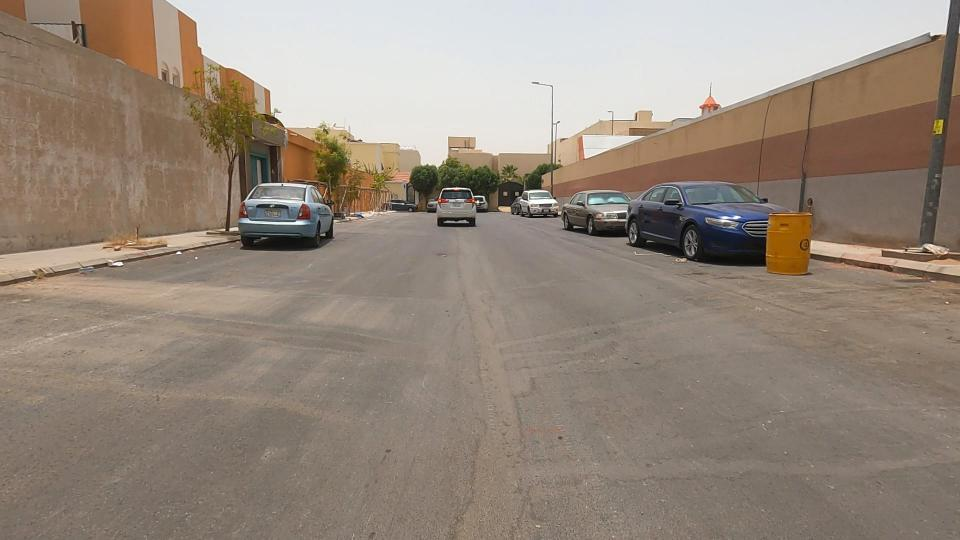GARBAGE: (65, 230, 157, 299), (880, 225, 960, 282)
